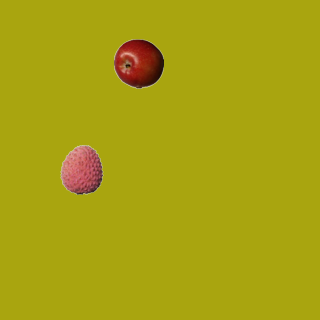Apple Braeburn: (113, 38, 163, 88)
Lychee: (56, 144, 106, 194)
